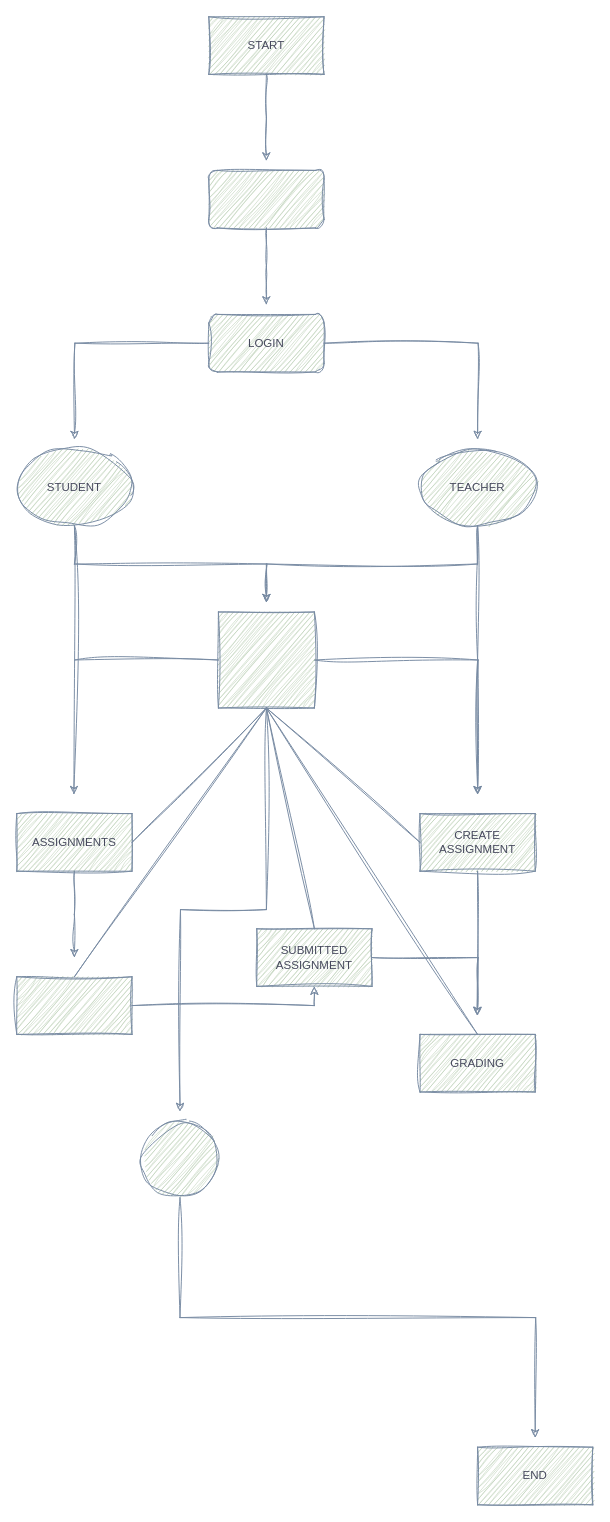
The diagram is 610 pixels wide and 1522 high, and some of its shapes have lost their labels. Each missing label, with the centre of its shape:
"DASHBOARD" belongs at pixel 265 659.
"LOG OUT" belongs at pixel 179 1159.
"REGISTER" belongs at pixel 266 198.
"SUBMIT" belongs at pixel 74 1005.
